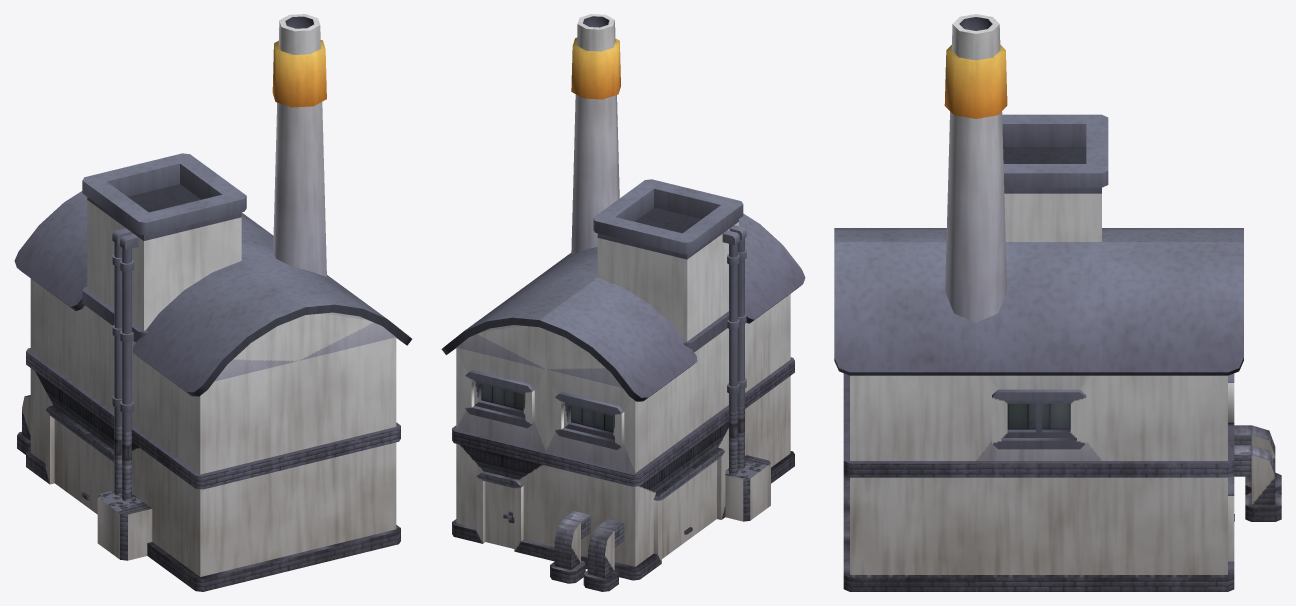
The model's file is building-n-white.glb.
3 renders of one model, left to right at view 1: azimuth 30°, elevation 25°; view 2: azimuth 150°, elevation 25°; view 3: azimuth 270°, elevation 25°, orthographic. The views are drawn at different scales.
Visible parts, largest first — view 1: building-n; view 2: building-n; view 3: building-n.
Part boxes in pixels (x1,y1,x2,y2): building-n: (14, 14, 411, 591); building-n: (441, 14, 805, 591); building-n: (834, 14, 1281, 591).
Bounding box in the file's own units: 0.9766 × 1.9 × 1.42.
Materials: 1 (1 with a texture image).
